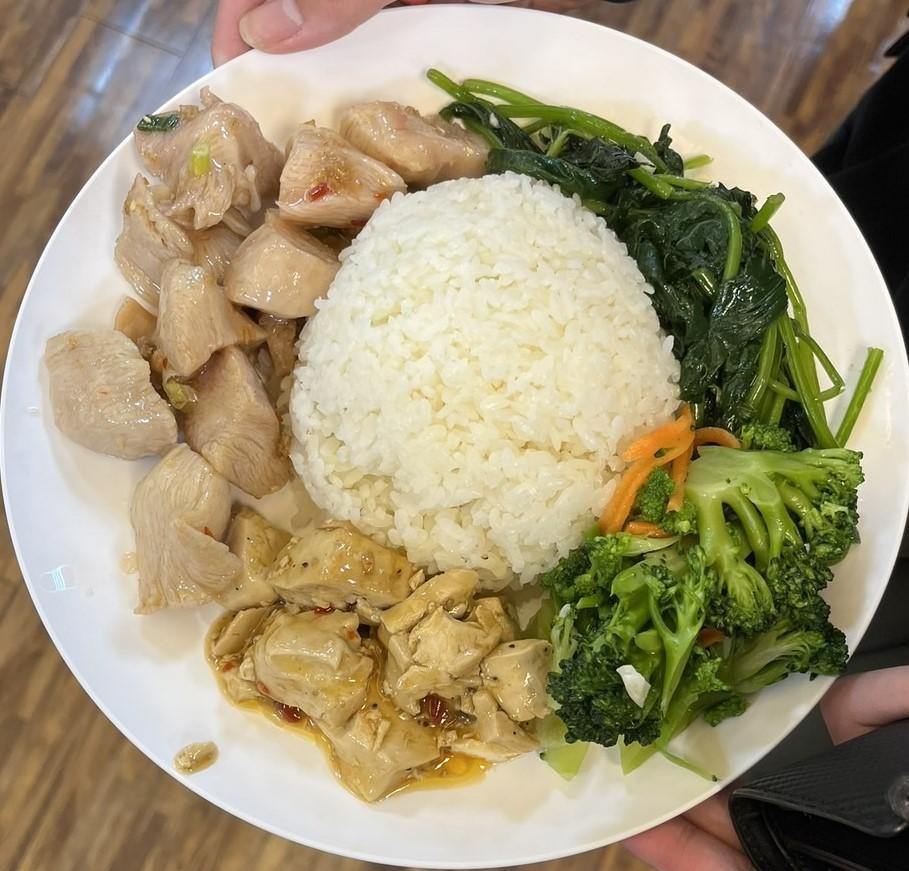big fried chicken leg: (0, 12, 909, 871)
big herbal chicken leg: (274, 176, 679, 577)
braised fish fillet: (432, 68, 839, 444), (550, 430, 872, 748), (206, 520, 555, 799)
braised pork: (43, 78, 480, 620)
